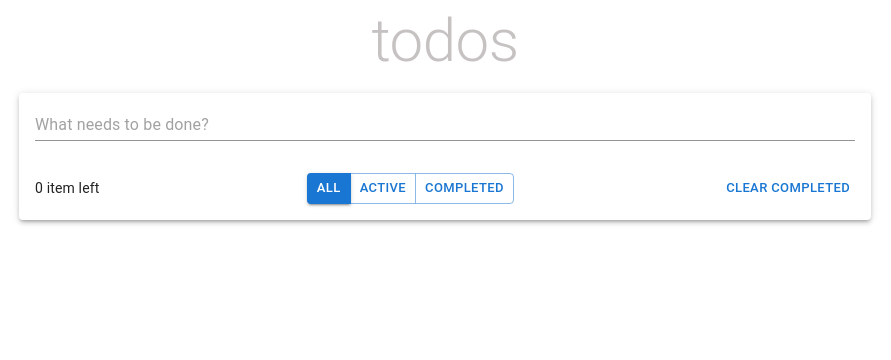
Scenario: ToDo App › фильтрует задачи: Active
In the field with placeholder "What needs to be done?": x=445, y=125 [35, 109, 855, 141], type "Активная задача"
Then press Enter
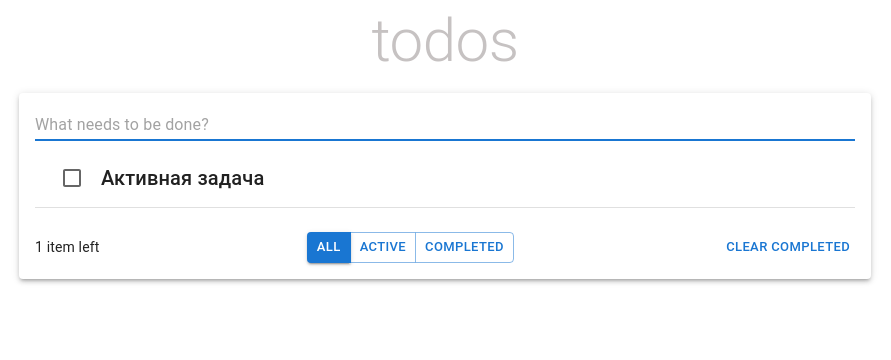
In the field with placeholder "What needs to be done?": x=445, y=125 [35, 109, 855, 141], type "Выполненная задача"
Then press Enter
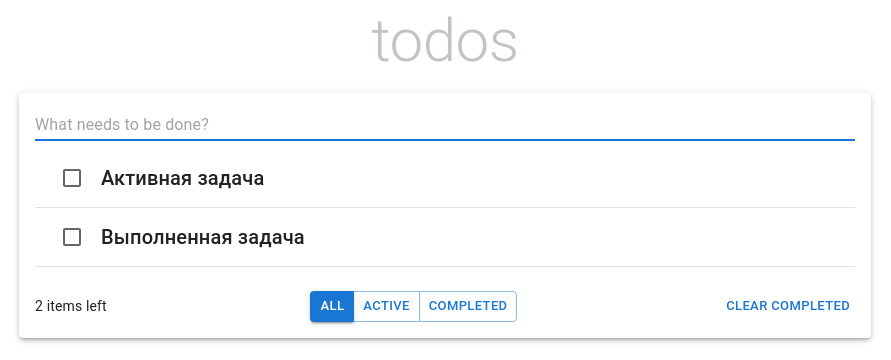
Click the checkbox next to "Выполненная задача": x=72, y=237 [60, 225, 84, 249]
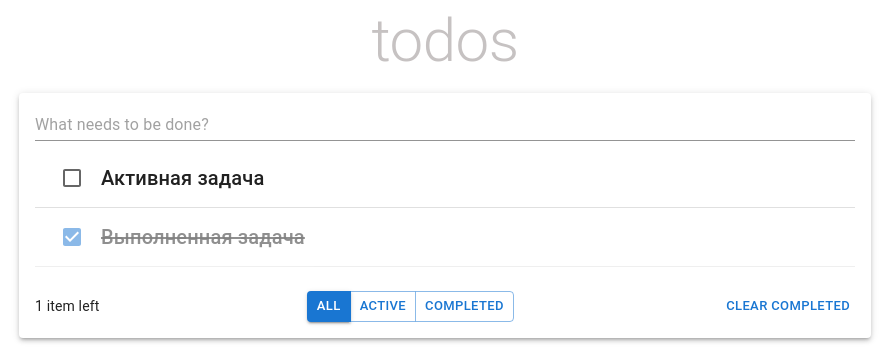
Click the button "Active": x=383, y=306 [350, 291, 416, 322]
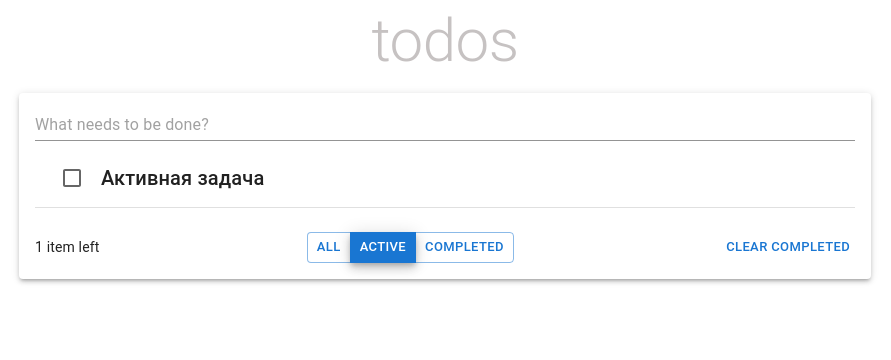
expect the heading "Активная задача" is shown: met, box [101, 162, 264, 194]
expect the heading "Выполненная задача" is gone: met
